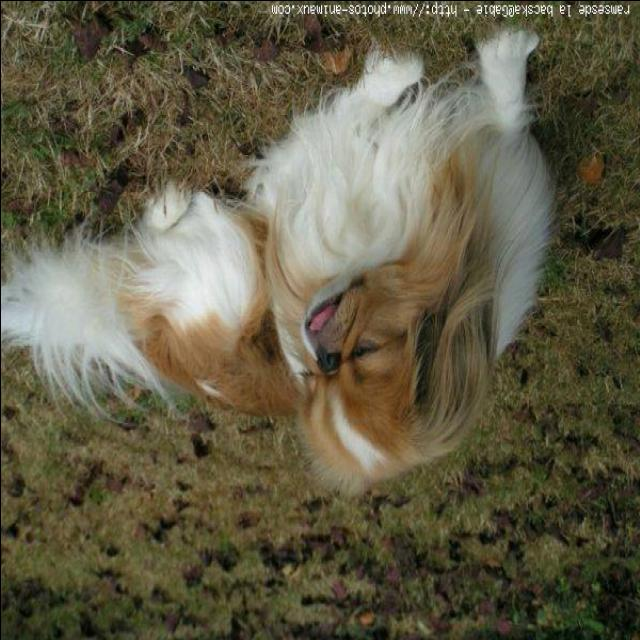husky: (2, 21, 564, 502)
